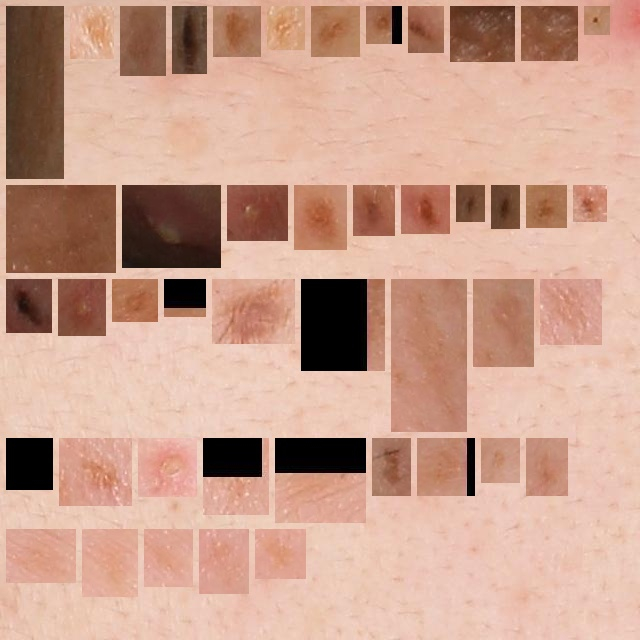hypertrophic_scar: (14, 193, 108, 265), (458, 14, 507, 54), (529, 14, 570, 53)
melasma: (399, 287, 459, 424), (14, 14, 56, 171), (283, 446, 358, 515), (309, 287, 377, 363), (220, 287, 287, 336), (481, 287, 526, 359), (211, 446, 261, 507), (67, 446, 124, 498), (548, 287, 594, 337), (90, 537, 130, 589), (14, 537, 68, 575), (425, 446, 467, 488), (207, 537, 241, 586), (128, 14, 158, 68), (152, 537, 185, 579), (263, 537, 298, 571), (319, 14, 352, 49), (14, 446, 45, 482), (534, 446, 560, 488), (78, 14, 106, 51), (380, 446, 403, 488), (120, 287, 150, 314), (489, 446, 512, 475), (275, 14, 297, 42), (172, 287, 198, 309)
nevus: (302, 193, 339, 242), (14, 287, 44, 325), (221, 14, 253, 49), (409, 193, 442, 226), (180, 14, 199, 66), (361, 193, 387, 228), (534, 193, 559, 220), (416, 14, 436, 45), (374, 14, 394, 36), (581, 193, 599, 214), (499, 193, 512, 221), (464, 193, 477, 214), (592, 14, 602, 27)
pustule: (130, 193, 213, 260), (146, 446, 189, 489), (235, 193, 280, 233), (66, 287, 98, 328)
